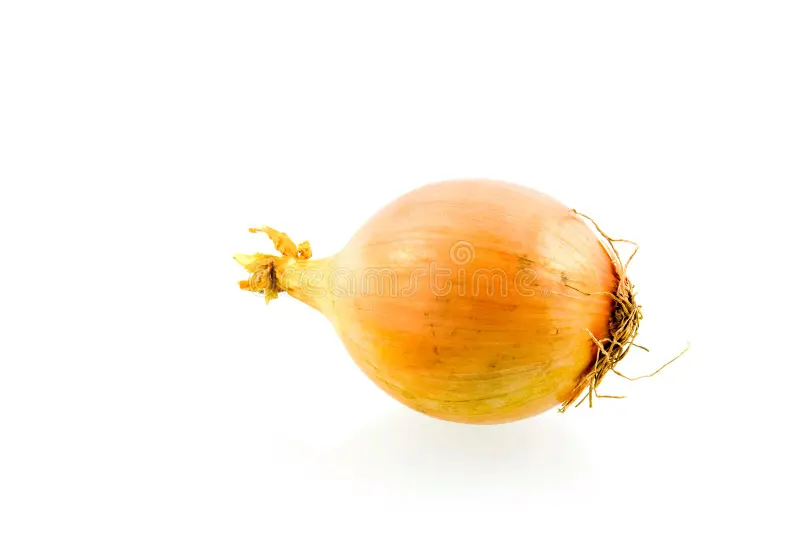onion: (200, 147, 691, 462)
